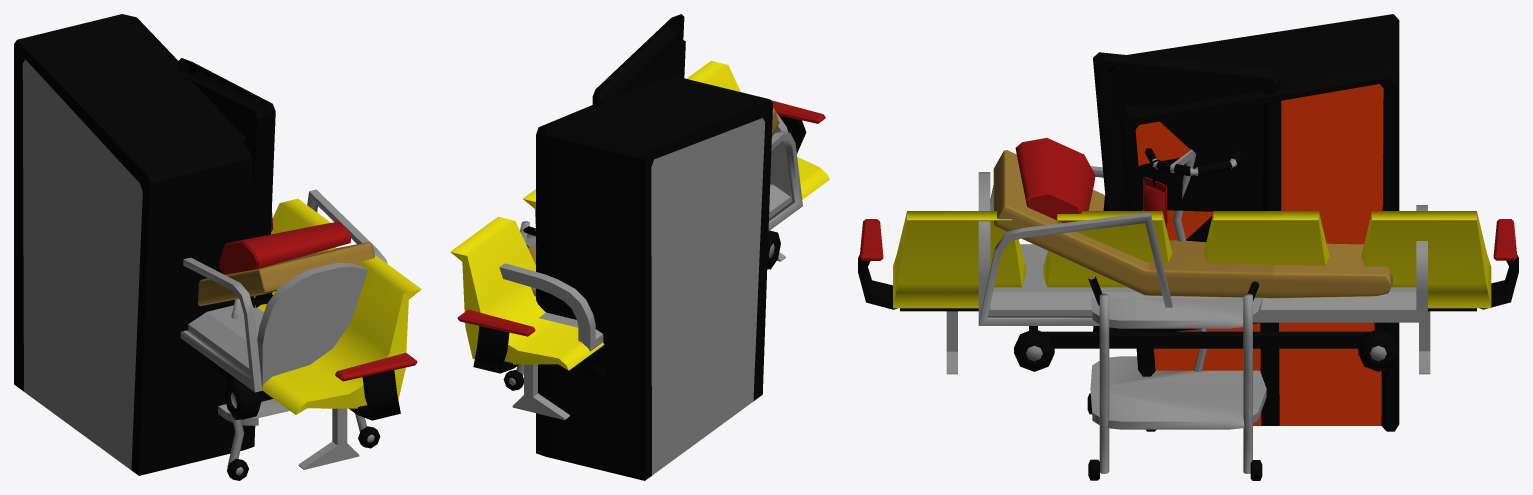
File: Props.fbx
3 views of the same model, side by side, from view 1: azimuth 30°, elevation 25°; view 2: azimuth 150°, elevation 25°; view 3: azimuth 270°, elevation 25° (orthographic). The views are drawn at different scales.
Visible parts, largest first — view 1: hospital_scene.004, hospital_scene.002, hospital_scene.007, hospital_scene.008, hospital_scene.012; view 2: hospital_scene.004, hospital_scene.007, hospital_scene.002, hospital_scene.008, hospital_scene.012; view 3: hospital_scene.004, hospital_scene.002, hospital_scene.007, hospital_scene.008, hospital_scene.012, hospital_scene.003.
Boxes of the visible parts, x1=… form: hospital_scene.004: x1=14, y1=14, x2=255, y2=475; hospital_scene.002: x1=180, y1=189, x2=387, y2=419; hospital_scene.007: x1=253, y1=198, x2=421, y2=469; hospital_scene.008: x1=178, y1=58, x2=275, y2=307; hospital_scene.012: x1=218, y1=295, x2=380, y2=480; hospital_scene.004: x1=536, y1=76, x2=772, y2=480; hospital_scene.007: x1=450, y1=60, x2=829, y2=420; hospital_scene.002: x1=499, y1=108, x2=802, y2=378; hospital_scene.008: x1=592, y1=14, x2=685, y2=105; hospital_scene.012: x1=503, y1=221, x2=535, y2=390; hospital_scene.004: x1=1119, y1=14, x2=1399, y2=431; hospital_scene.002: x1=978, y1=138, x2=1427, y2=371; hospital_scene.007: x1=858, y1=211, x2=1518, y2=374; hospital_scene.008: x1=1093, y1=52, x2=1281, y2=331; hospital_scene.012: x1=1087, y1=276, x2=1266, y2=480; hospital_scene.003: x1=1143, y1=148, x2=1241, y2=371.
Bounding box in the file's own units: 136 × 219 × 347.
